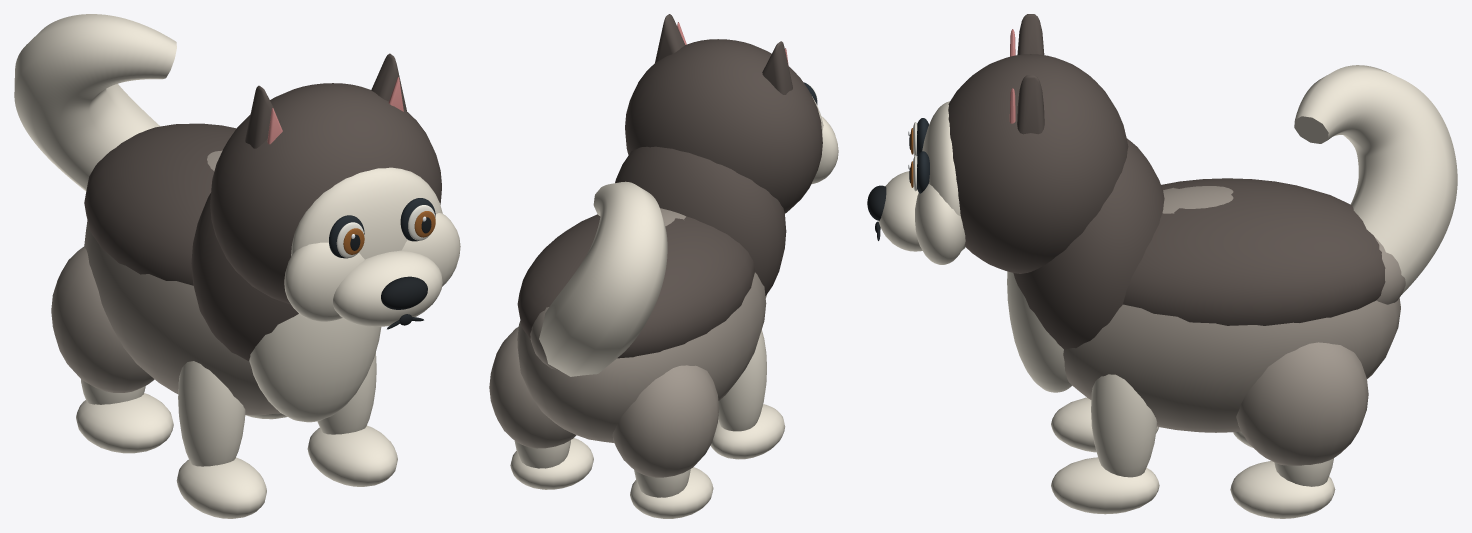
Rendered from Mush_Malamute_Prototype.fbx.
The picture shows the model from 3 angles, left to right: view 1: azimuth 30°, elevation 25°; view 2: azimuth 150°, elevation 25°; view 3: azimuth 270°, elevation 25°; orthographic projection. The views are drawn at different scales.
Visible parts, largest first — view 1: Malamute_Head, Malamute_Tail, Malamute_BackSaddle, Malamute_Body, Malamute_Chest, Malamute_RearThigh_L, Malamute_FacePlate, Malamute_Neck, Malamute_FrontLeg_L, Malamute_Muzzle, Malamute_RearPaw_L, Malamute_FrontPaw_R (+8 smaller); view 2: Malamute_Head, Malamute_Tail, Malamute_BackSaddle, Malamute_Body, Malamute_Neck, Malamute_RearThigh_L, Malamute_RearThigh_R, Malamute_FrontLeg_L, Malamute_FrontPaw_L, Malamute_RearPaw_L, Malamute_RearPaw_R, Malamute_RearLeg_L (+5 smaller); view 3: Malamute_BackSaddle, Malamute_Head, Malamute_Body, Malamute_Tail, Malamute_Neck, Malamute_RearThigh_R, Malamute_FrontLeg_R, Malamute_FrontPaw_R, Malamute_RearPaw_R, Malamute_Chest, Malamute_Cheek_R, Malamute_FacePlate (+6 smaller).
Part boxes in pixels (left/top/right/bottom): Malamute_Head: left=210, top=83, right=441, bottom=304; Malamute_Tail: left=14, top=14, right=176, bottom=191; Malamute_BackSaddle: left=84, top=123, right=236, bottom=285; Malamute_Body: left=84, top=150, right=279, bottom=415; Malamute_Chest: left=249, top=314, right=381, bottom=422; Malamute_RearThigh_L: left=51, top=246, right=154, bottom=392; Malamute_FacePlate: left=291, top=167, right=442, bottom=259; Malamute_Neck: left=191, top=193, right=298, bottom=360; Malamute_FrontLeg_L: left=178, top=361, right=245, bottom=466; Malamute_Muzzle: left=333, top=250, right=442, bottom=326; Malamute_RearPaw_L: left=76, top=393, right=173, bottom=453; Malamute_FrontPaw_R: left=307, top=425, right=397, bottom=486; Malamute_Head: left=625, top=39, right=822, bottom=213; Malamute_Tail: left=539, top=181, right=667, bottom=376; Malamute_BackSaddle: left=517, top=214, right=755, bottom=358; Malamute_Body: left=517, top=208, right=766, bottom=442; Malamute_Neck: left=615, top=146, right=786, bottom=295; Malamute_RearThigh_L: left=612, top=365, right=719, bottom=477; Malamute_RearThigh_R: left=489, top=327, right=576, bottom=448; Malamute_FrontLeg_L: left=718, top=329, right=766, bottom=431; Malamute_FrontPaw_L: left=710, top=404, right=785, bottom=459; Malamute_RearPaw_L: left=630, top=467, right=713, bottom=518; Malamute_RearPaw_R: left=510, top=438, right=593, bottom=489; Malamute_RearLeg_L: left=634, top=469, right=690, bottom=497; Malamute_BackSaddle: left=1123, top=178, right=1385, bottom=325; Malamute_Head: left=948, top=54, right=1128, bottom=273; Malamute_Body: left=1063, top=186, right=1400, bottom=432; Malamute_Tail: left=1294, top=65, right=1457, bottom=294; Malamute_Neck: left=1013, top=138, right=1164, bottom=349; Malamute_RearThigh_R: left=1236, top=342, right=1368, bottom=465; Malamute_FrontLeg_R: left=1091, top=374, right=1157, bottom=477; Malamute_FrontPaw_R: left=1051, top=457, right=1159, bottom=514; Malamute_RearPaw_R: left=1230, top=461, right=1335, bottom=518; Malamute_Chest: left=1007, top=271, right=1072, bottom=392; Malamute_Cheek_R: left=915, top=184, right=965, bottom=264; Malamute_FacePlate: left=922, top=101, right=965, bottom=250.
Size of the model in its own units: 144 by 251 by 309.
